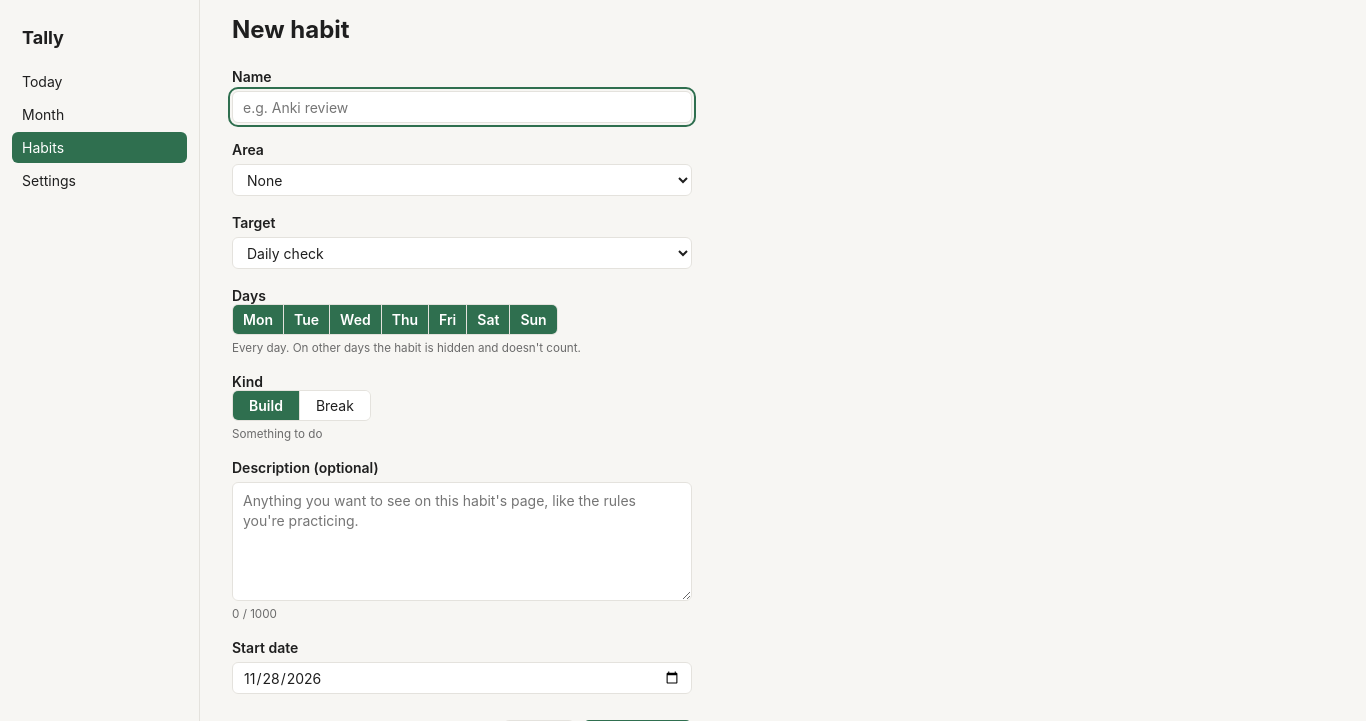
it: HabitFormPage: create › creates a daily check habit and returns to the list
In the field labelled "Name": (462, 107) [232,91,692,123], type "Anki review"
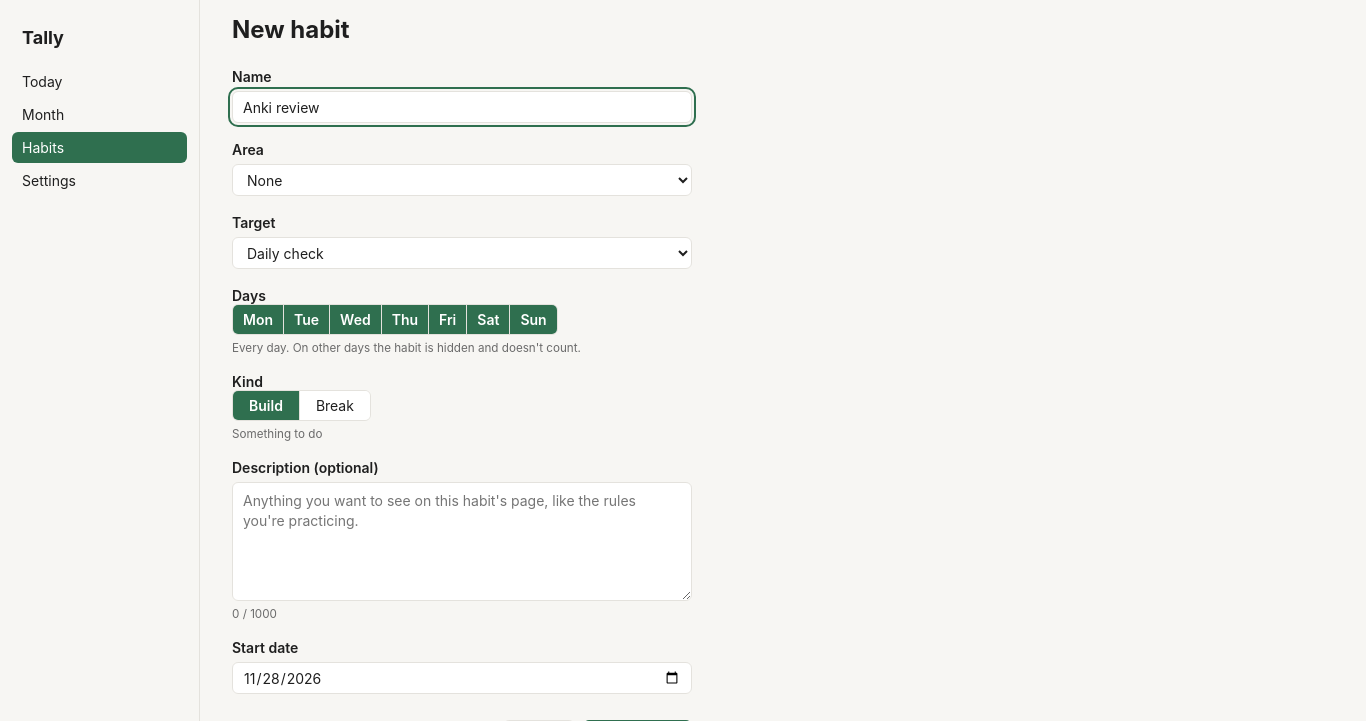
Select "Daily check" in the dropdown labelled "Target": (462, 253) [232,237,692,269]
(page scrolled)
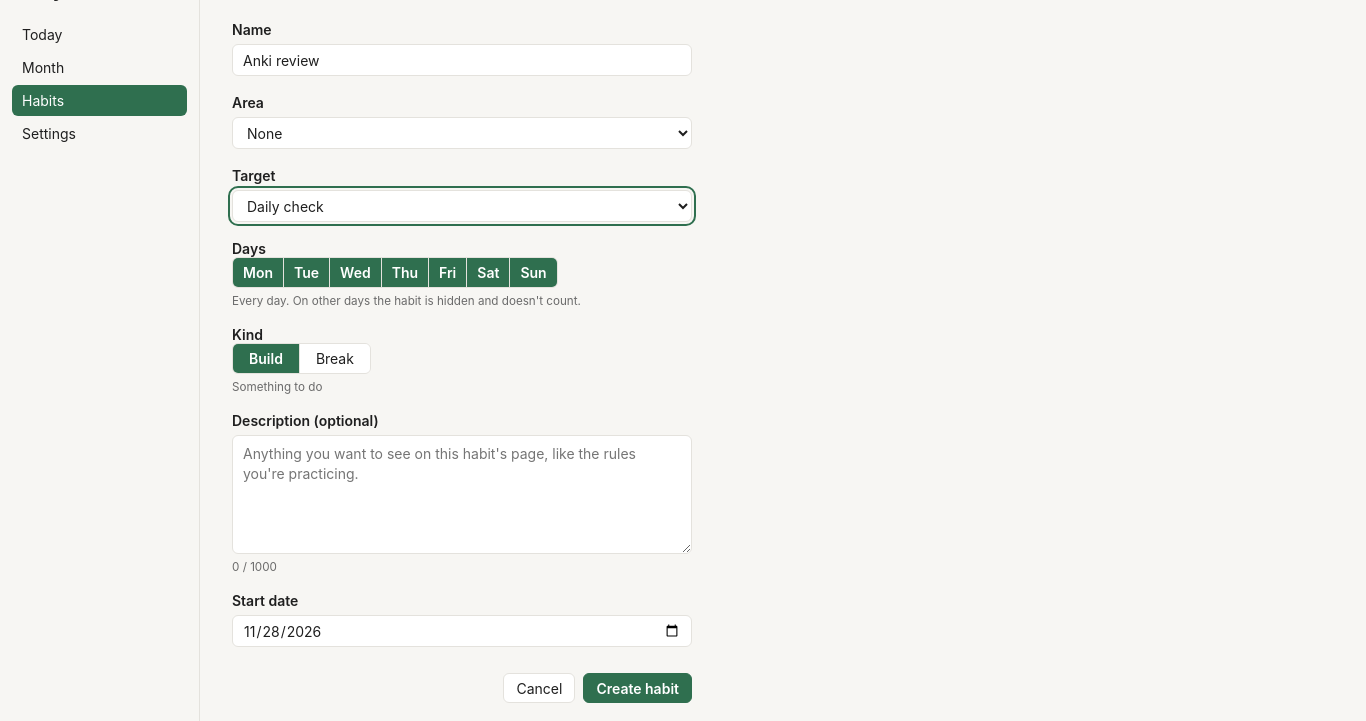
Click the button "Create habit": (638, 688) [583,674,692,704]
(page scrolled)
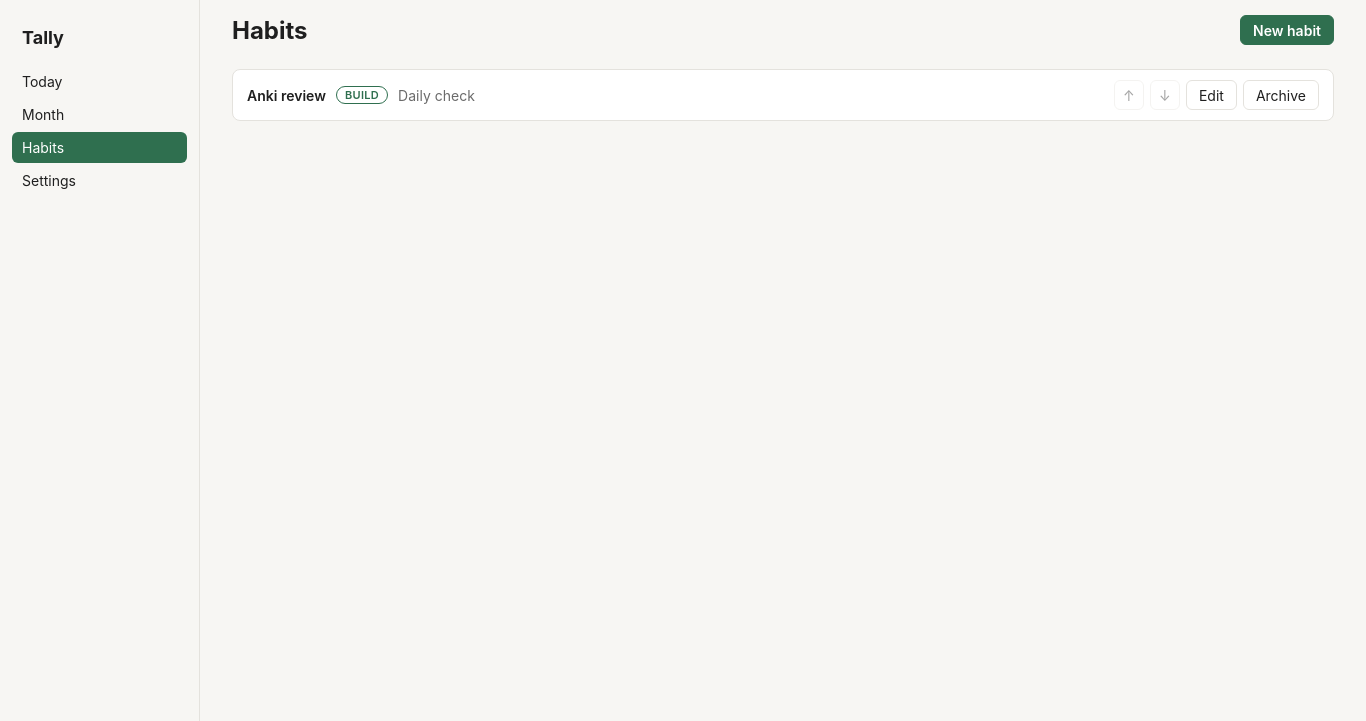
Expected: the heading "Habits" is shown, [232,16,308,44]
